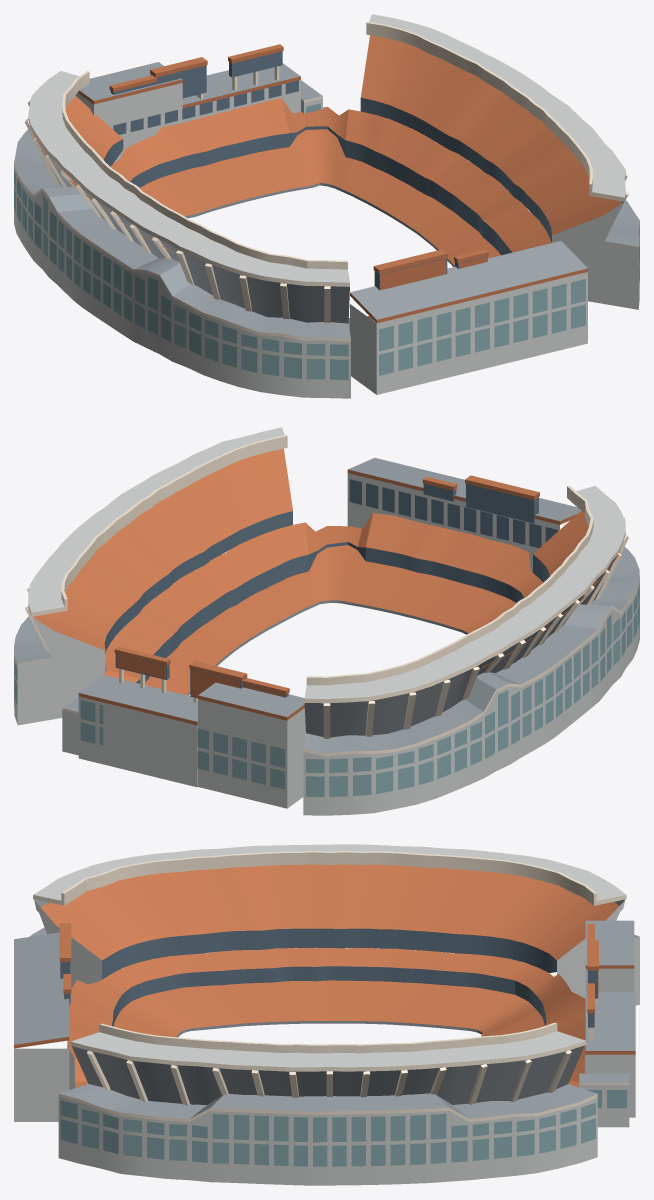
Rendered from cle-huntington-bank-field.glb.
The picture shows the model from 3 angles, top to bottom: view 1: azimuth 30°, elevation 25°; view 2: azimuth 150°, elevation 25°; view 3: azimuth 270°, elevation 25°; orthographic projection. The views are drawn at different scales.
Visible parts, largest first — view 1: Huntington Bank Field; view 2: Huntington Bank Field; view 3: Huntington Bank Field.
Boxes of the visible parts, x1,y1,x2,y2 form: Huntington Bank Field: [14, 14, 639, 398]; Huntington Bank Field: [14, 427, 639, 815]; Huntington Bank Field: [14, 844, 639, 1185].
Size of the model in its own units: 222 by 53.1 by 250.
